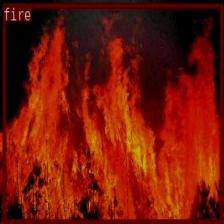fire: (2, 3, 222, 222)
